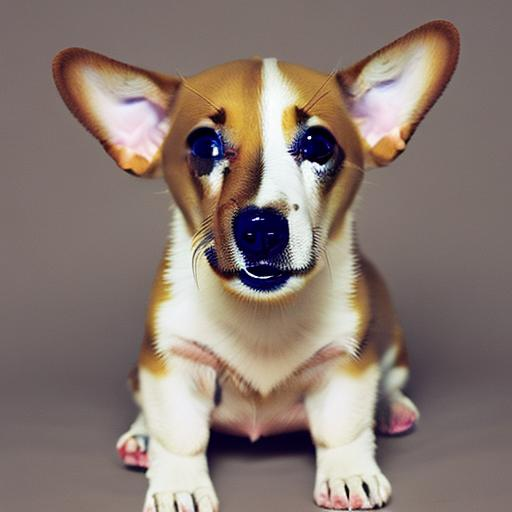eye: (291, 120, 347, 172), (179, 129, 233, 174)
